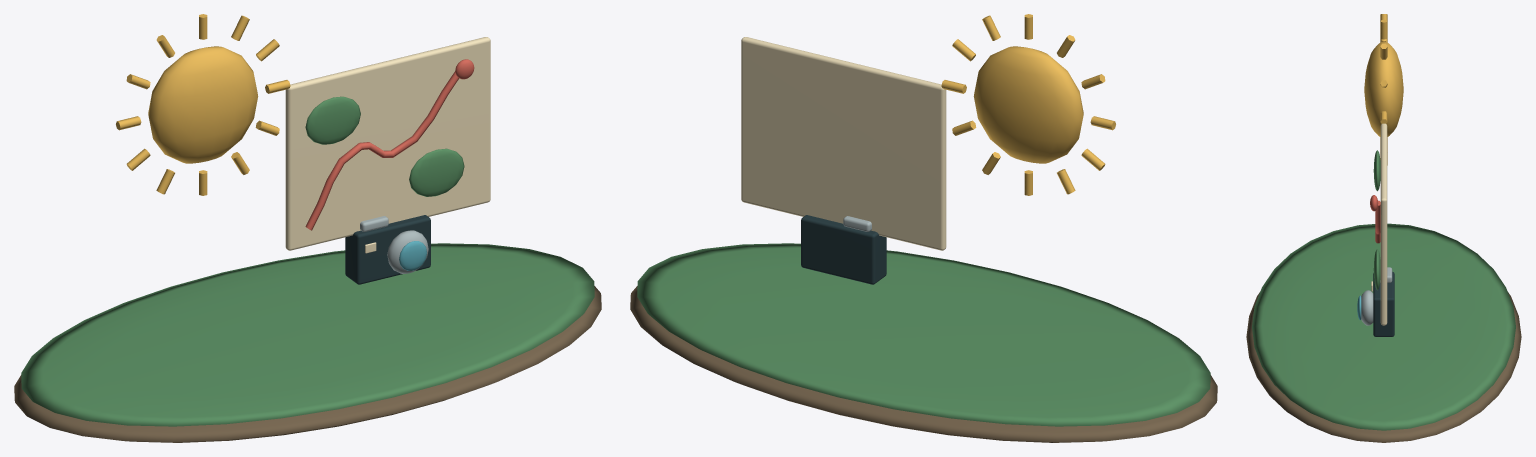
File: photo-light.glb
3 renders of one model, left to right at view 1: azimuth 30°, elevation 25°; view 2: azimuth 150°, elevation 25°; view 3: azimuth 270°, elevation 25°, orthographic. The views are drawn at different scales.
Parts seen in each view (by area): view 1: photo-light_surface_01, photo-light_surface_03, photo-light_surface_02, photo-light_surface_00, photo-light_surface_05, photo-light_surface_04, photo-light_surface_06, photo-light_surface_07; view 2: photo-light_surface_01, photo-light_surface_03, photo-light_surface_02, photo-light_surface_00, photo-light_surface_05; view 3: photo-light_surface_01, photo-light_surface_00, photo-light_surface_02, photo-light_surface_03, photo-light_surface_05, photo-light_surface_06, photo-light_surface_04.
Part boxes in pixels (bbox=[...]): photo-light_surface_01: bbox=[21, 96, 594, 426]; photo-light_surface_03: bbox=[285, 37, 490, 253]; photo-light_surface_02: bbox=[116, 14, 290, 195]; photo-light_surface_00: bbox=[14, 286, 601, 442]; photo-light_surface_05: bbox=[345, 215, 430, 284]; photo-light_surface_04: bbox=[305, 59, 474, 230]; photo-light_surface_06: bbox=[360, 216, 428, 273]; photo-light_surface_07: bbox=[399, 241, 426, 270]; photo-light_surface_01: bbox=[637, 243, 1210, 426]; photo-light_surface_03: bbox=[741, 37, 946, 250]; photo-light_surface_02: bbox=[941, 14, 1115, 195]; photo-light_surface_00: bbox=[630, 286, 1217, 442]; photo-light_surface_05: bbox=[801, 215, 886, 284]; photo-light_surface_01: bbox=[1252, 150, 1515, 430]; photo-light_surface_00: bbox=[1246, 292, 1521, 442]; photo-light_surface_02: bbox=[1364, 14, 1403, 165]; photo-light_surface_03: bbox=[1371, 123, 1387, 325]; photo-light_surface_05: bbox=[1373, 272, 1394, 336]; photo-light_surface_06: bbox=[1361, 267, 1392, 325]; photo-light_surface_04: bbox=[1370, 195, 1380, 243].
Size of the model in its own units: 4.56 by 2.9 by 2.5.
